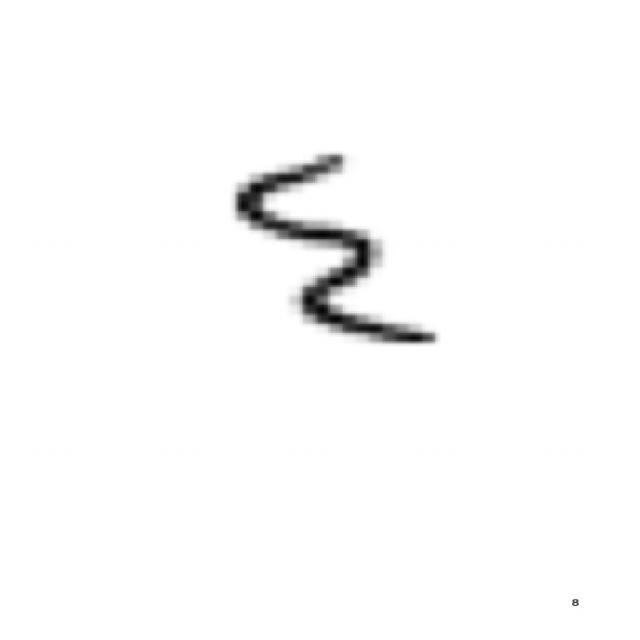4 -four-: (215, 141, 453, 357)
